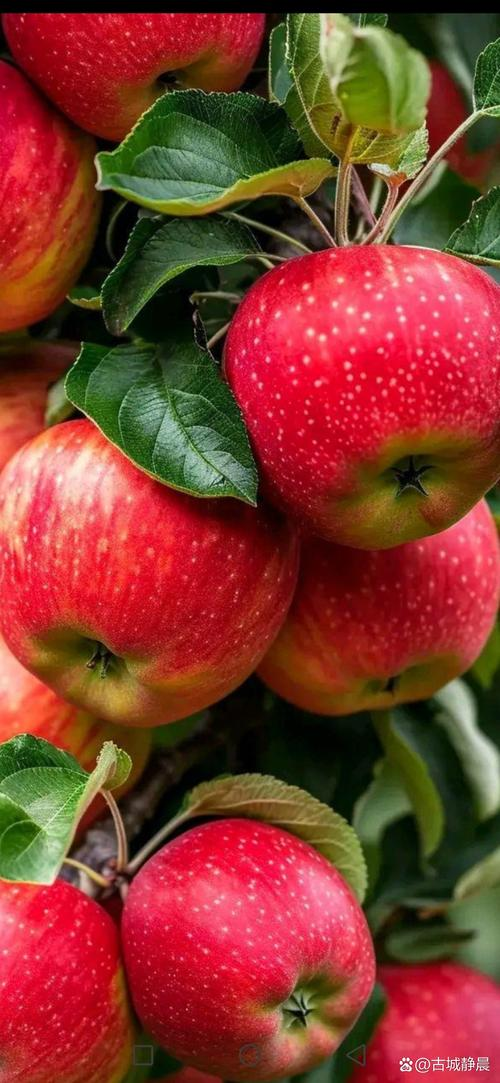ripe: (0, 367, 312, 724), (227, 235, 500, 553), (226, 448, 500, 724), (99, 823, 381, 1061)
